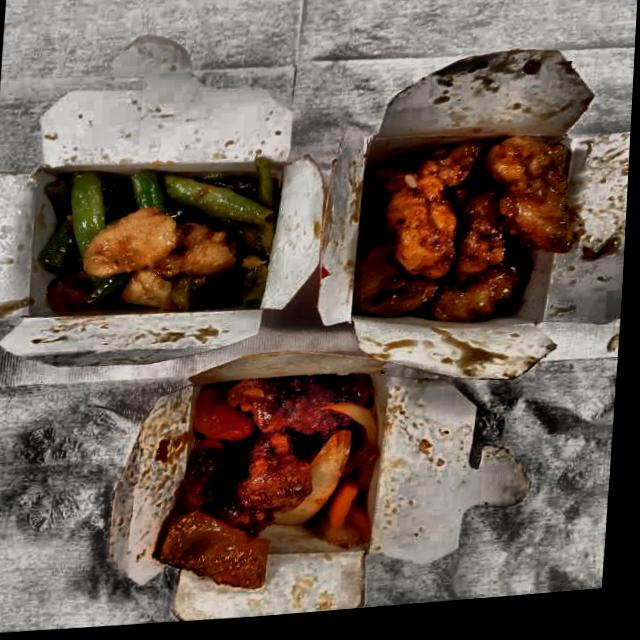Food: (349, 127, 589, 343), (163, 365, 397, 583), (32, 157, 275, 331)
